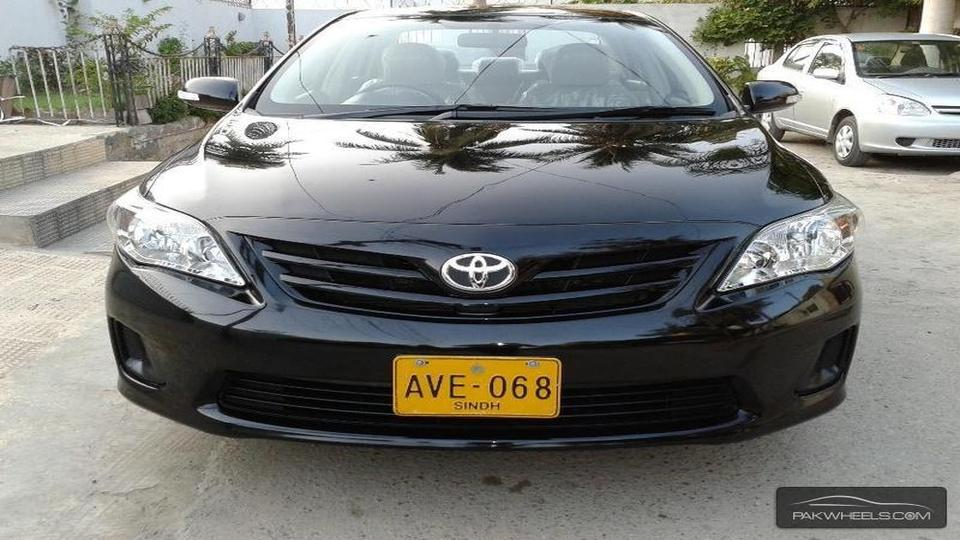NumberPlate: (385, 358, 577, 422)
